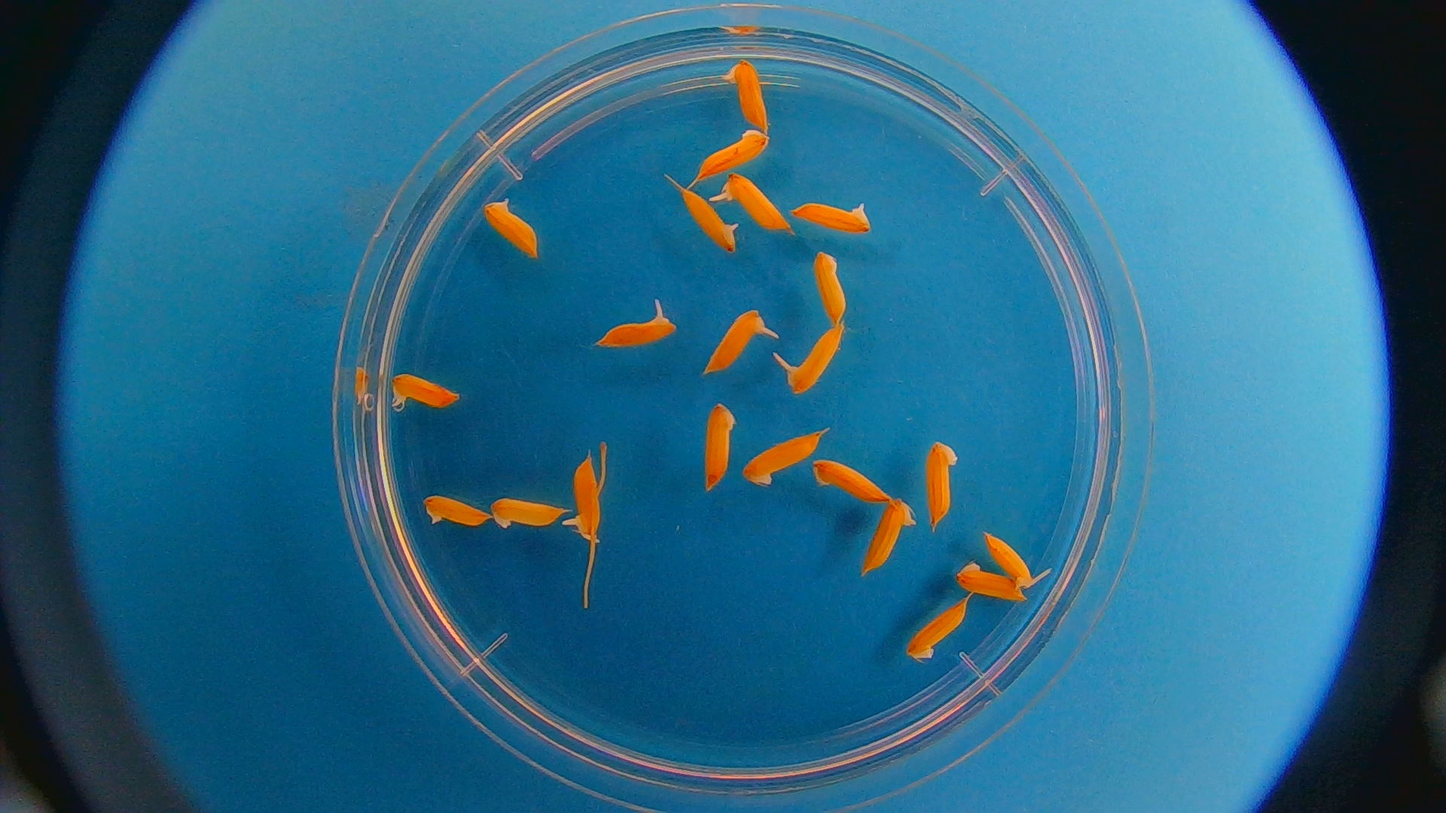no: (862, 495, 916, 578), (923, 435, 962, 540), (742, 430, 818, 483), (810, 455, 888, 505), (901, 601, 966, 661), (697, 131, 772, 178), (483, 197, 541, 257), (700, 397, 734, 489), (725, 59, 767, 131), (957, 565, 1023, 607), (797, 201, 870, 234), (816, 247, 846, 327), (423, 493, 489, 529), (490, 500, 566, 531)
yes: (722, 166, 789, 230), (679, 190, 740, 255), (788, 327, 847, 392), (706, 309, 764, 375), (982, 528, 1039, 587), (390, 373, 457, 413), (599, 315, 674, 349), (574, 460, 601, 542)
